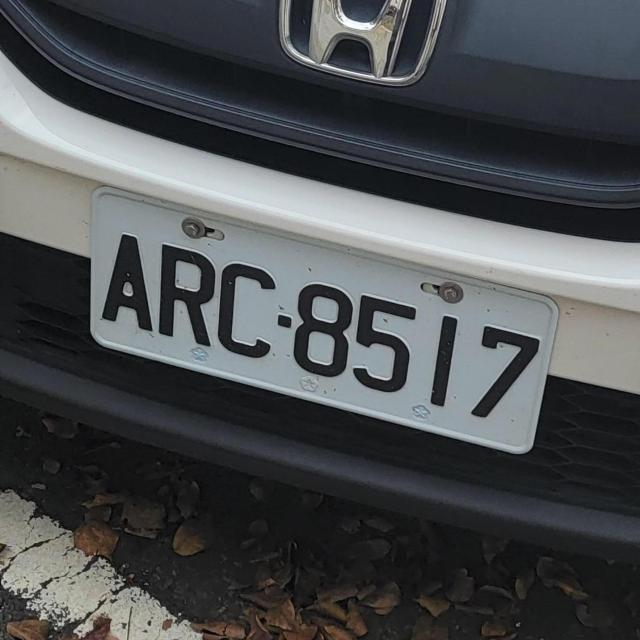W: (81, 169, 558, 450)
